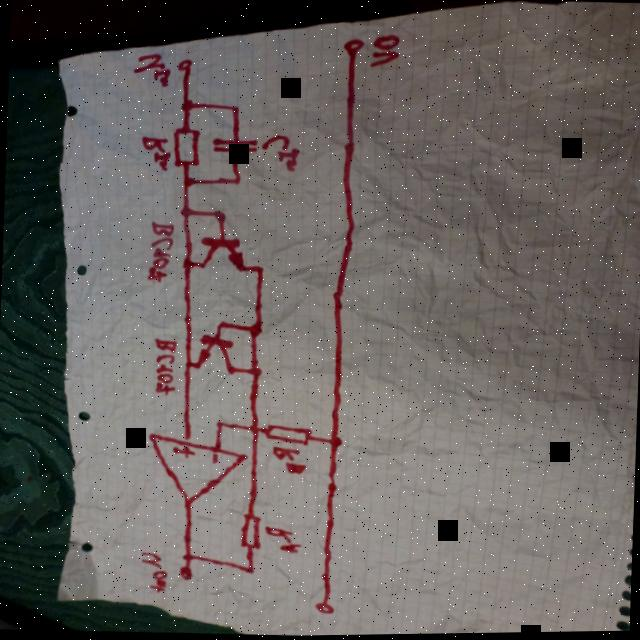capacitor: (209, 132, 258, 157)
junction: (245, 320, 266, 338), (177, 96, 195, 112), (246, 362, 262, 378), (178, 173, 195, 186), (212, 208, 226, 223), (327, 434, 342, 447), (177, 204, 193, 216), (180, 256, 193, 270), (228, 174, 242, 186), (214, 316, 226, 330), (179, 550, 194, 561), (180, 358, 193, 370), (246, 422, 260, 433), (252, 262, 264, 274), (210, 418, 224, 428), (243, 564, 255, 575), (228, 102, 240, 111)
resistor: (170, 124, 201, 168), (262, 421, 313, 446), (238, 510, 262, 549)
terminal: (340, 36, 365, 54), (314, 600, 334, 615), (176, 563, 193, 579), (175, 56, 193, 71)
text: (146, 218, 176, 283), (150, 334, 178, 395), (258, 132, 298, 172), (130, 50, 172, 87), (137, 549, 168, 592), (137, 133, 170, 171), (368, 31, 400, 69), (268, 444, 307, 475), (261, 524, 302, 553)
transistor: (196, 234, 248, 272), (192, 332, 238, 374)
